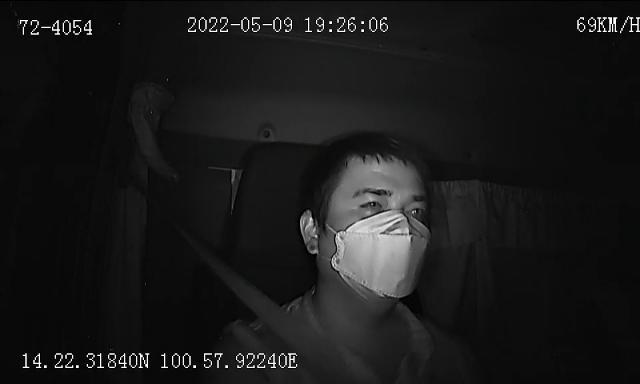SafeDriving: (352, 192, 389, 214), (402, 200, 429, 220)
Seatbelt: (211, 262, 327, 368)
